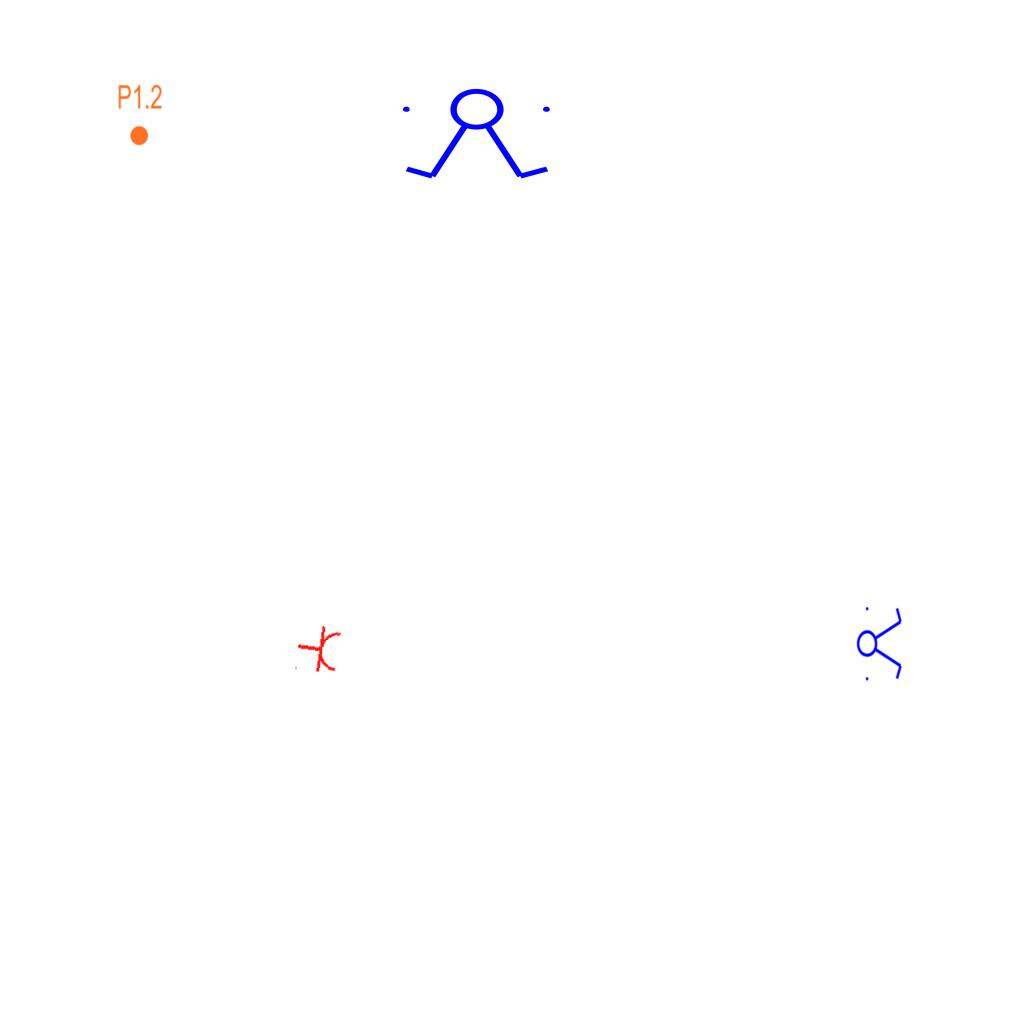Downlight_LED_Einbauleuchten_Flur: (117, 83, 163, 147)
Schukosteckdose_einfach: (293, 622, 344, 678)
Serienschalter: (394, 87, 562, 183), (856, 601, 904, 685)
